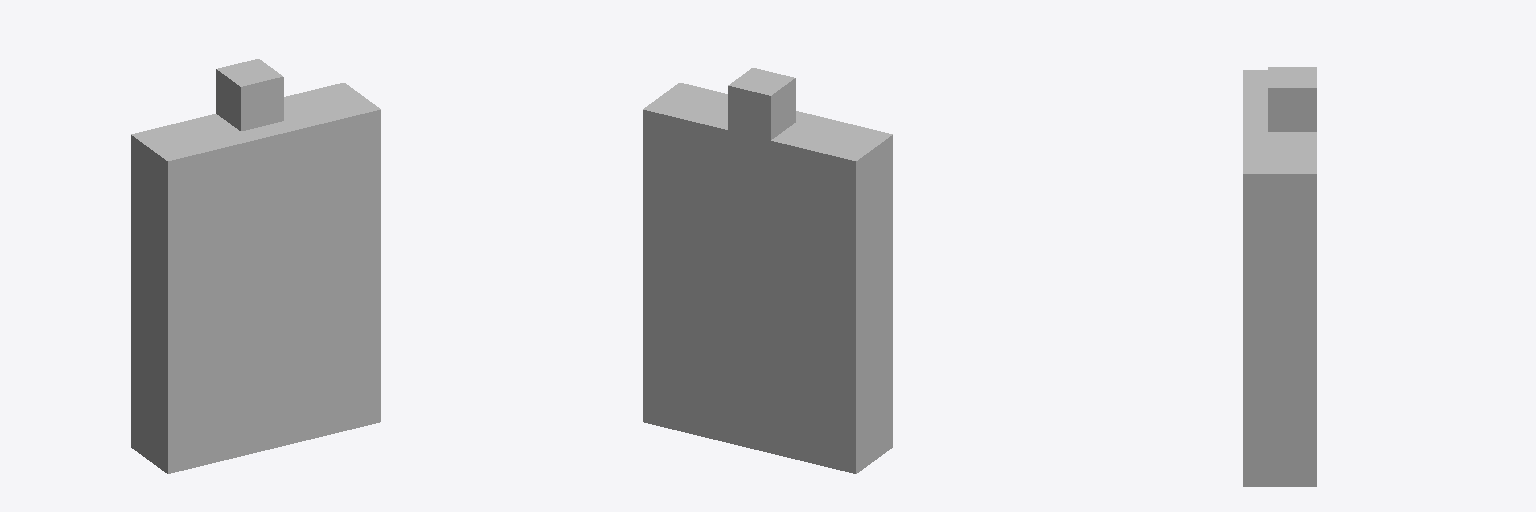
The model's file is Player-5.obj.
The picture shows the model from 3 angles: view 1: azimuth 30°, elevation 25°; view 2: azimuth 150°, elevation 25°; view 3: azimuth 270°, elevation 25°; orthographic projection.
Visible parts, largest first — view 1: object 1; view 2: object 1; view 3: object 1.
Boxes of the visible parts, box(x1,y1,x2,y2) form: object 1: box(131, 59, 380, 473); object 1: box(643, 68, 892, 473); object 1: box(1243, 67, 1316, 486).
Bounding box in the file's own units: 1 × 1.6 × 0.3.